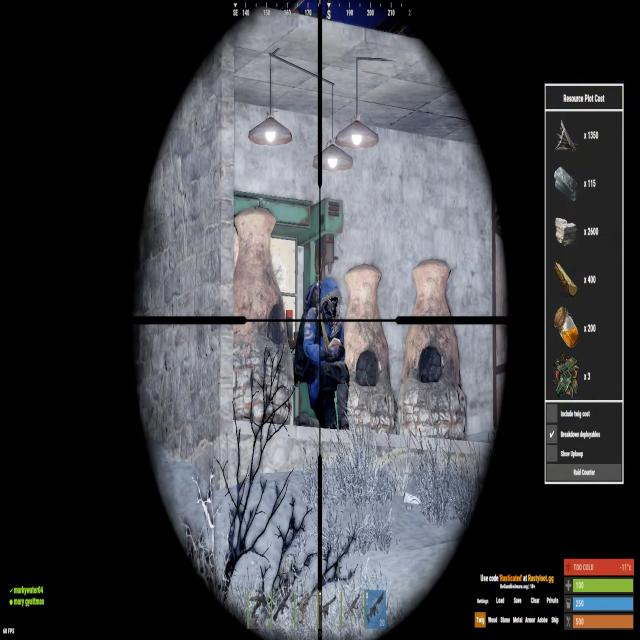Player: (301, 273, 350, 428)
